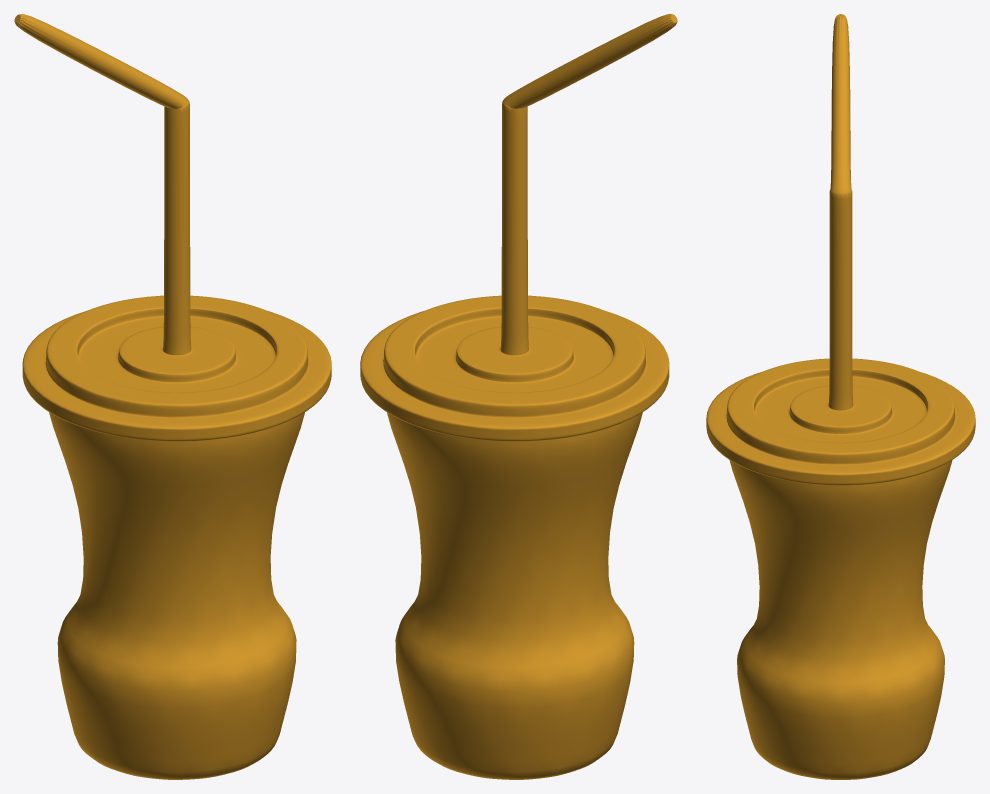
File: Drink.fbx
The picture shows the model from 3 angles, left to right: view 1: azimuth 30°, elevation 25°; view 2: azimuth 150°, elevation 25°; view 3: azimuth 270°, elevation 25°; orthographic projection. The views are drawn at different scales.
Parts seen in each view (by area): view 1: Cylinder; view 2: Cylinder; view 3: Cylinder.
Boxes of the visible parts, left/top/right/bottom form: Cylinder: left=14, top=14, right=331, bottom=779; Cylinder: left=360, top=14, right=677, bottom=779; Cylinder: left=706, top=14, right=975, bottom=779.
Bounding box in the file's own units: 127 × 315 × 115.
